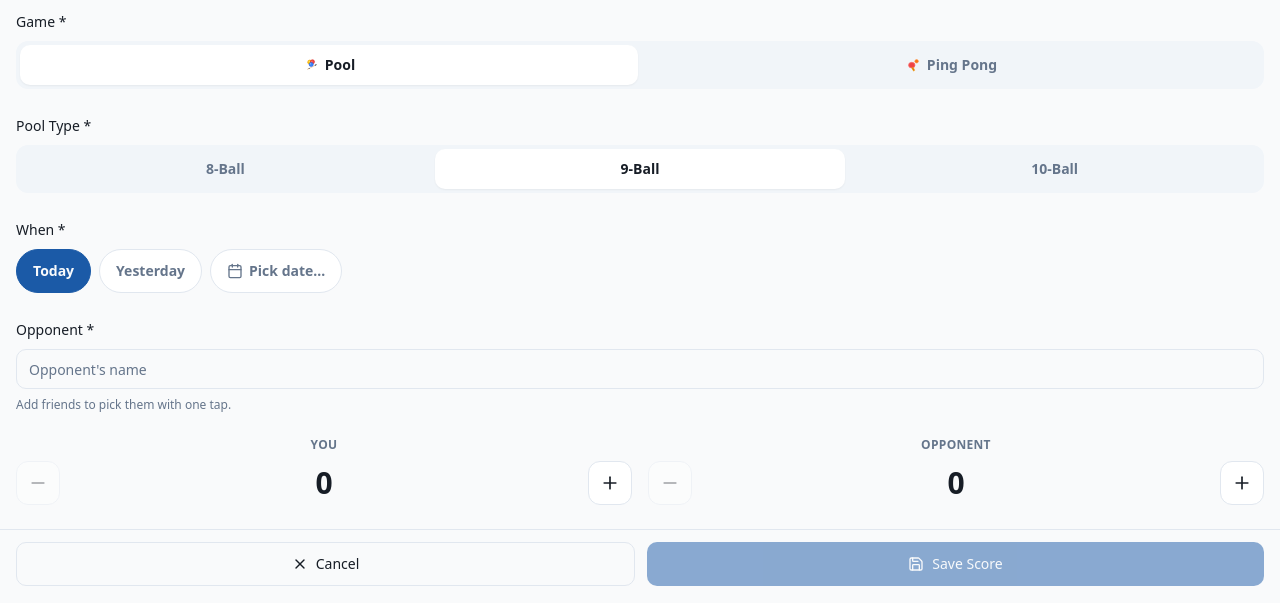
Scenario: ScoreForm › previews the outcome on the save button as scores change
Click the button named "Increase your score" at (610, 483), box [588, 461, 632, 505]
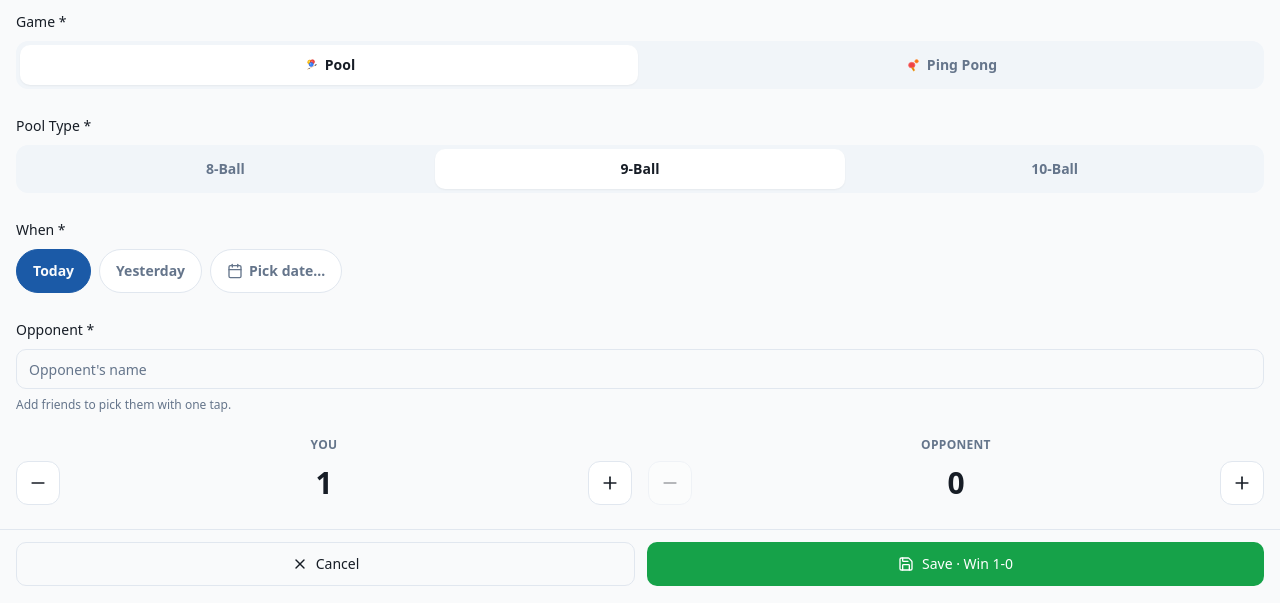
Click the button named "Increase your score" at (610, 483), box [588, 461, 632, 505]
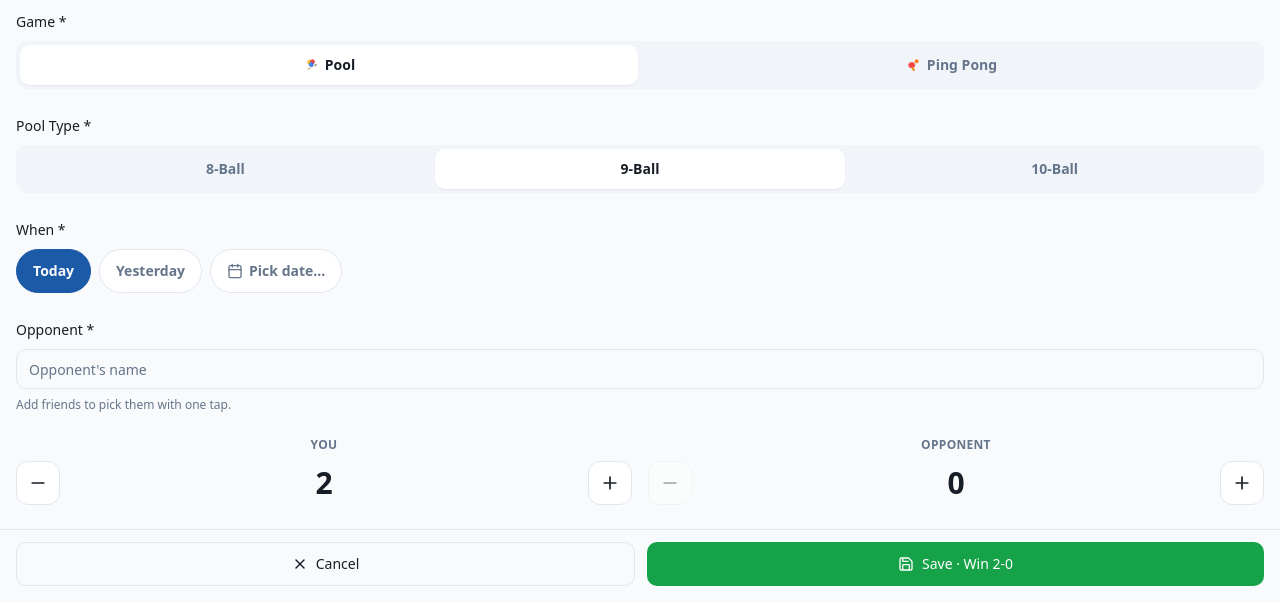
Click the button named "Increase opponent score" at (1242, 483), box [1220, 461, 1264, 505]
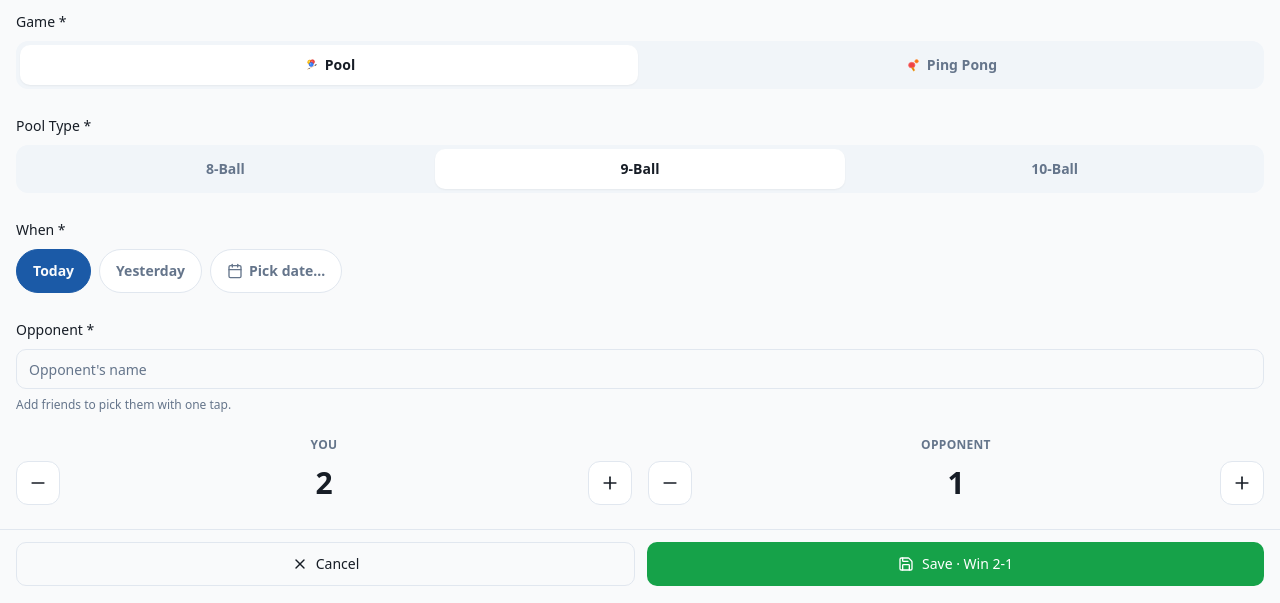
Expected: the button "Save · Win 2-1" is enabled, [647, 542, 1264, 586]
Click the button named "Increase opponent score" at (1242, 483), box [1220, 461, 1264, 505]
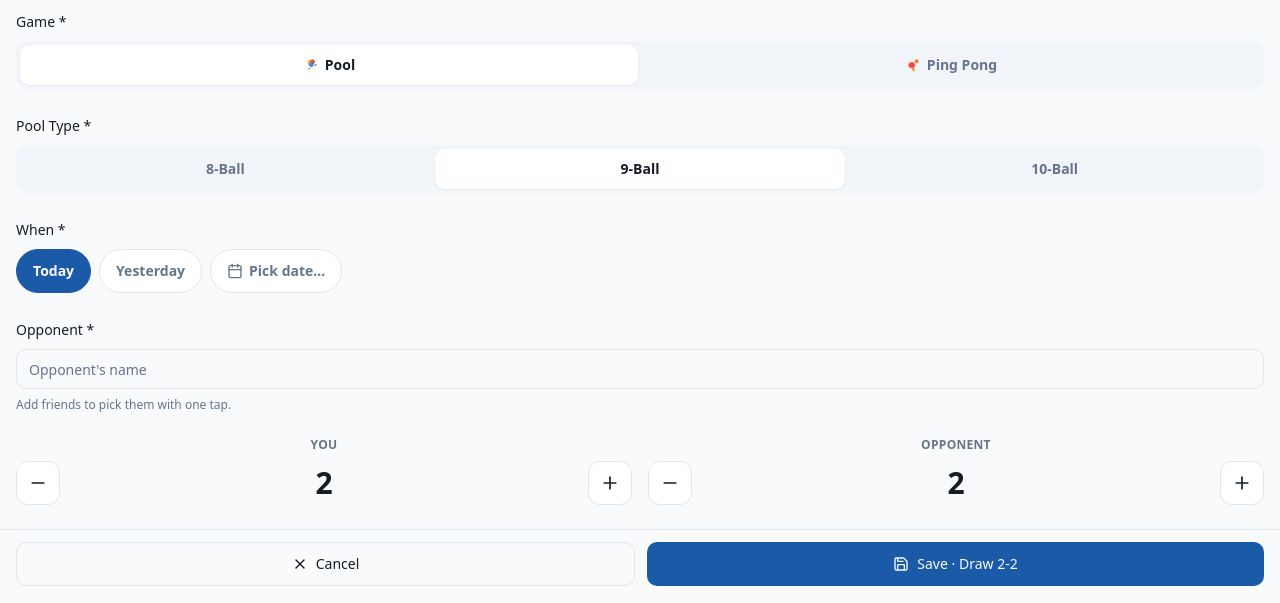
Expected: the button "Save · Draw 2-2" is shown, [647, 542, 1264, 586]
Click the button named "Increase opponent score" at (1242, 483), box [1220, 461, 1264, 505]
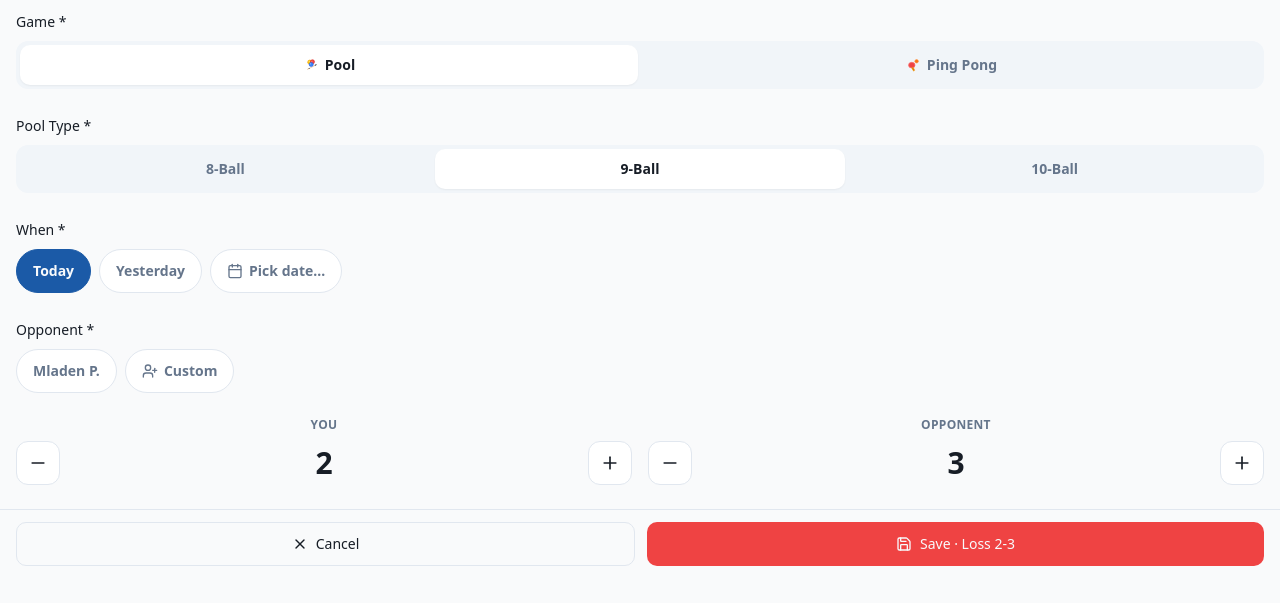
Expected: the button "Save · Loss 2-3" is shown, [647, 522, 1264, 566]
